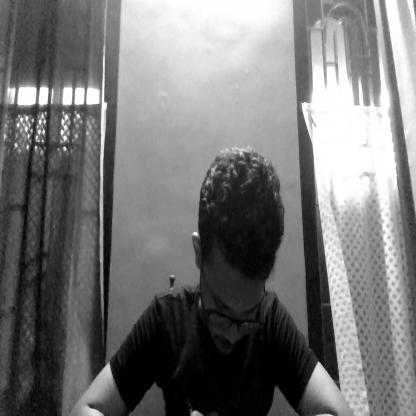Distracted: (194, 154, 284, 364)
